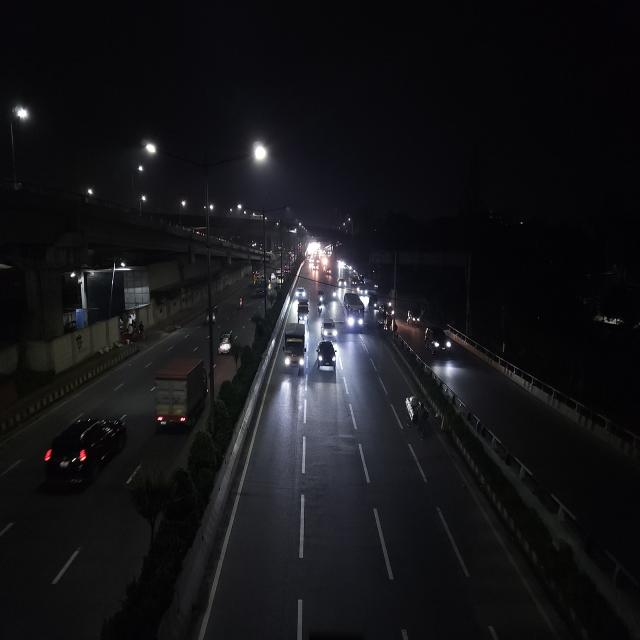bus: (341, 290, 366, 334)
car: (38, 406, 130, 497), (423, 325, 454, 357), (315, 337, 338, 374), (217, 329, 236, 357), (320, 316, 338, 341), (294, 284, 308, 302)
cng: (202, 303, 219, 328), (406, 309, 425, 330), (368, 293, 379, 311)
motorcycle: (316, 290, 326, 317), (237, 294, 247, 310)
rickshaw: (407, 408, 433, 445)
truck: (147, 353, 211, 435), (281, 322, 309, 377), (295, 300, 311, 325)
